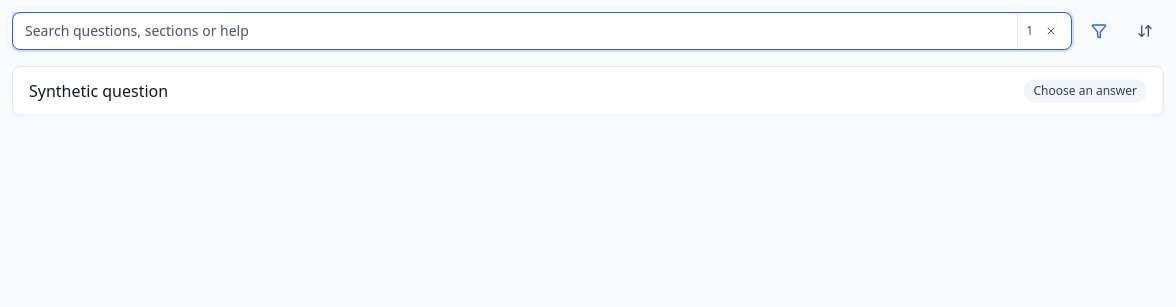
Test: Form Fill review list › clears search, inclusion and display options together
Type "Synthetic search" into the search field labelled "Search questions" at (515, 31), box top-left (13, 13), bottom-right (1017, 49)
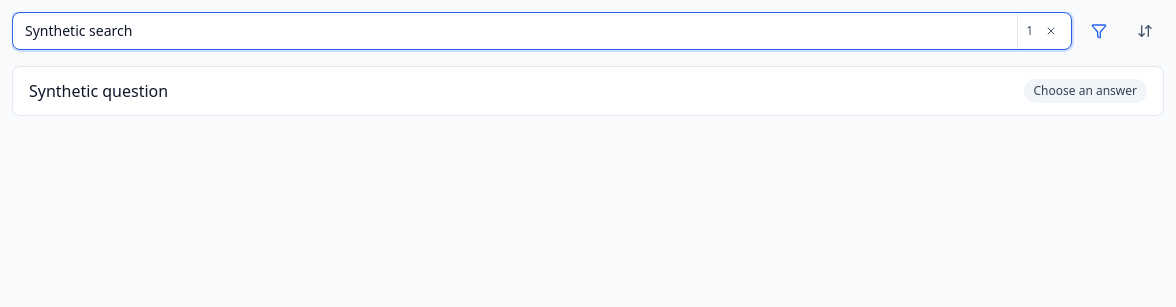
Click the button named "Filters applied" at (1099, 31), box top-left (1080, 12), bottom-right (1118, 50)
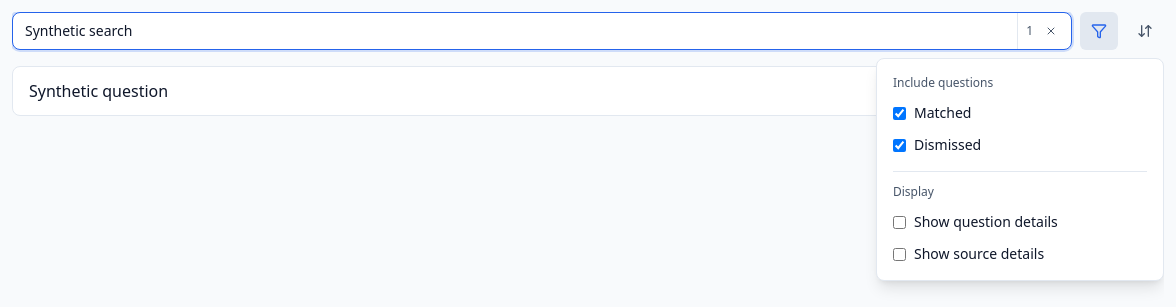
Click the checkbox labelled "Show question details" at (900, 222), box top-left (893, 216), bottom-right (906, 228)
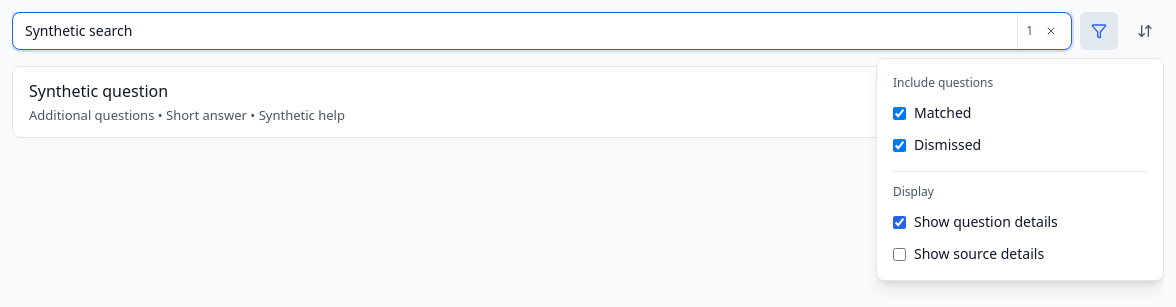
Click the checkbox labelled "Show source details" at (900, 254), box top-left (893, 248), bottom-right (906, 260)
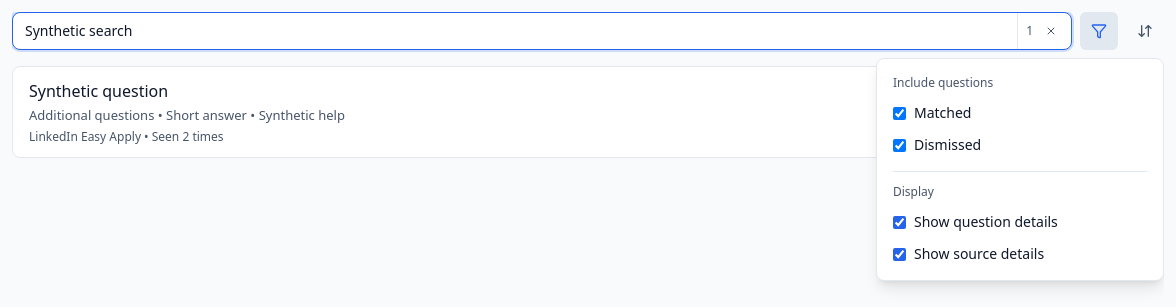
Click the button named "Clear filters" at (1051, 31), box top-left (1039, 19), bottom-right (1063, 43)
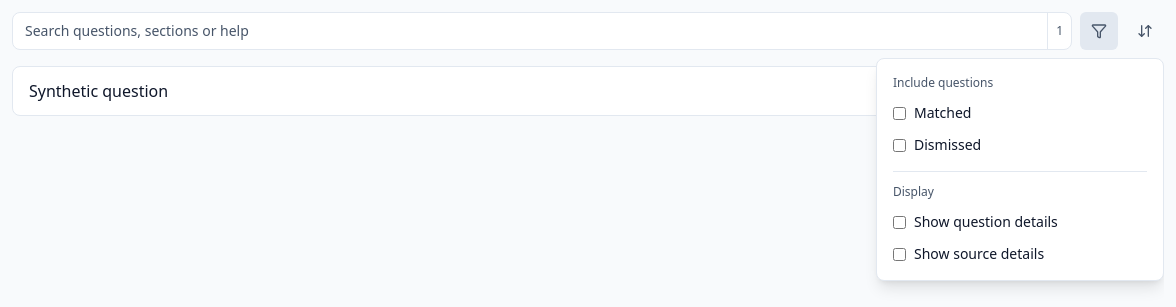
Now the checkbox labelled "Show question details" is not checked, box top-left (893, 216), bottom-right (906, 228)
Now the checkbox labelled "Show source details" is not checked, box top-left (893, 248), bottom-right (906, 260)
Now the search field labelled "Search questions" is empty, box top-left (13, 13), bottom-right (1047, 49)
